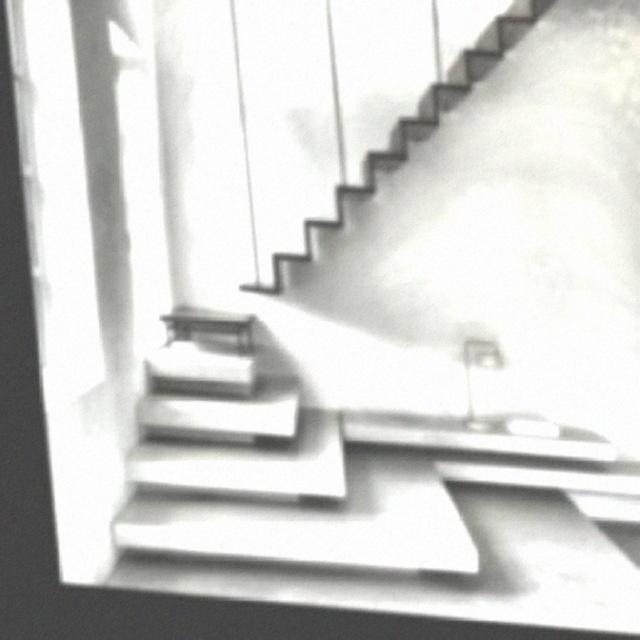stair: (80, 312, 384, 574)
